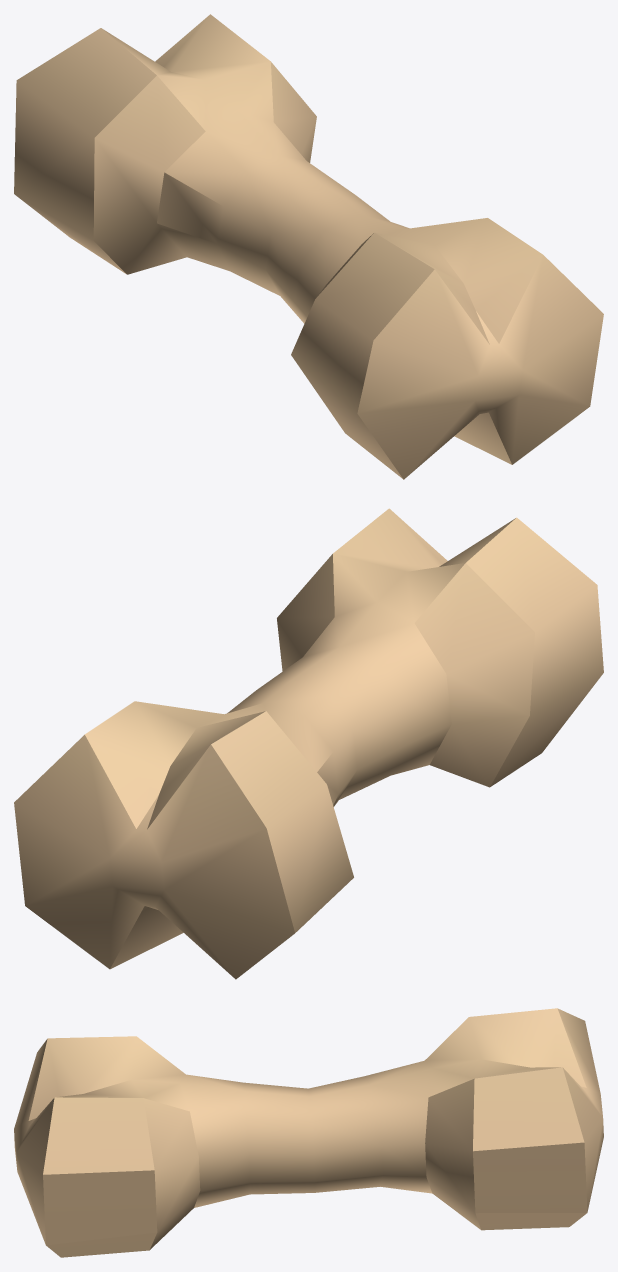
Rendered from Bones_5.glb.
The picture shows the model from 3 angles, top to bottom: view 1: azimuth 30°, elevation 25°; view 2: azimuth 150°, elevation 25°; view 3: azimuth 270°, elevation 25°; orthographic projection. The views are drawn at different scales.
Parts seen in each view (by area): view 1: Bones_5; view 2: Bones_5; view 3: Bones_5.
Boxes of the visible parts, left/top/right/bottom form: Bones_5: left=14, top=14, right=603, bottom=479; Bones_5: left=14, top=508, right=603, bottom=979; Bones_5: left=14, top=1008, right=603, bottom=1257.
Bounding box in the file's own units: 0.1152 × 0.0984 × 0.2578.
Materials: 1 (1 with a texture image).
